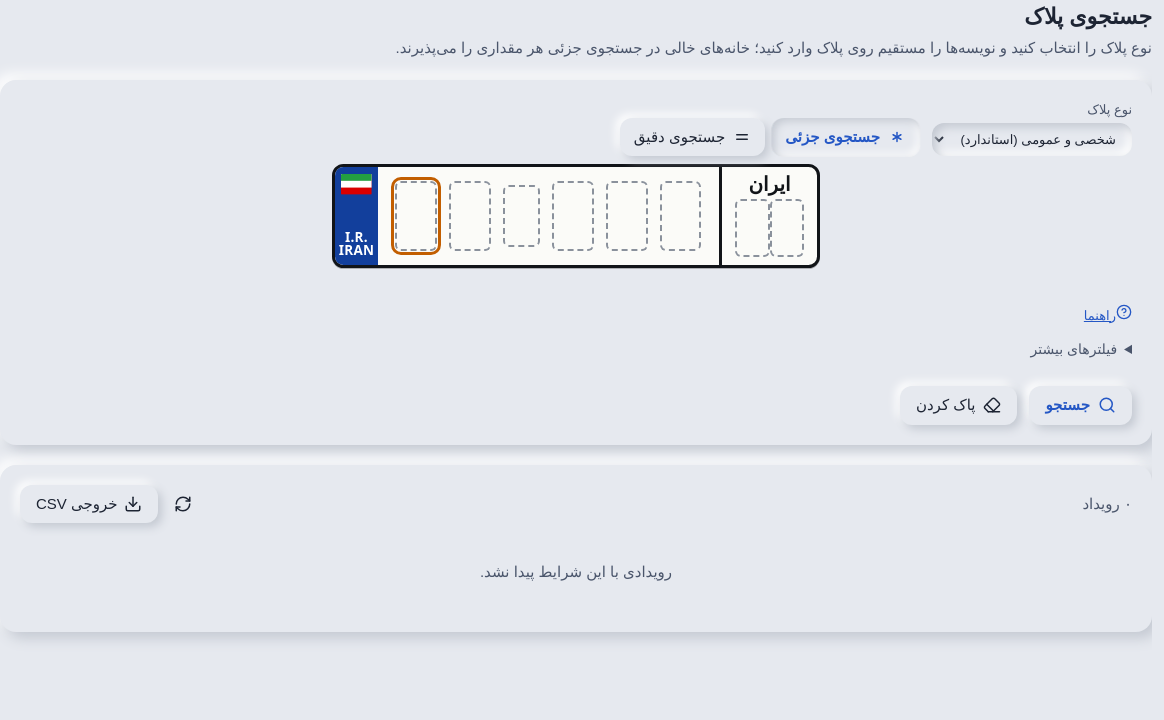
Test case: search request › clears the form
The width and height of the screenshot is (1164, 720).
Type keys "7"
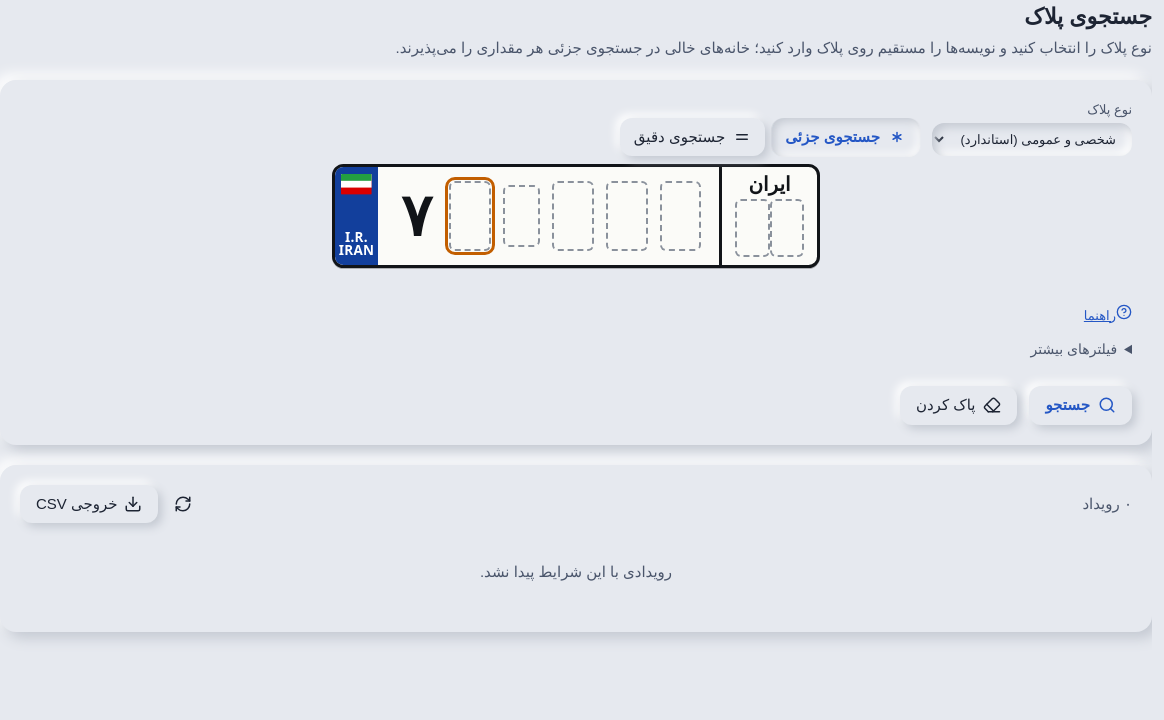
Click the button "پاک کردن": (959, 405) left=900, top=386, right=1017, bottom=424
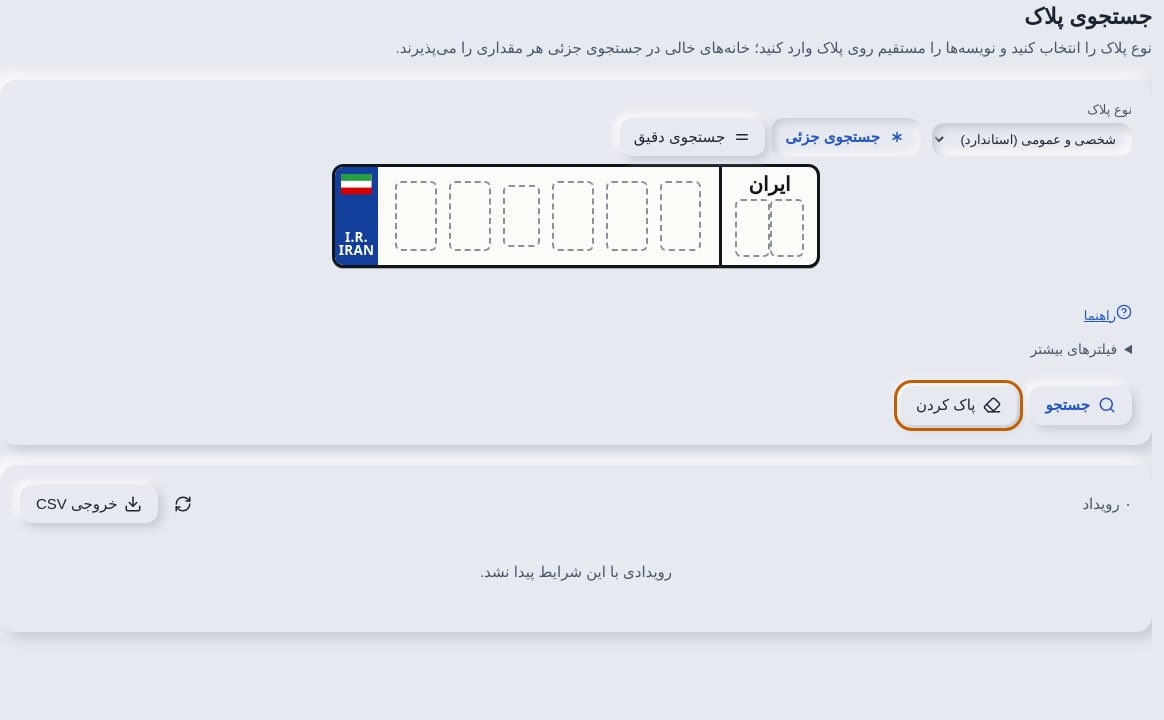
Now the dropdown named "رقم ۱" reads "–", box left=395, top=181, right=437, bottom=251
